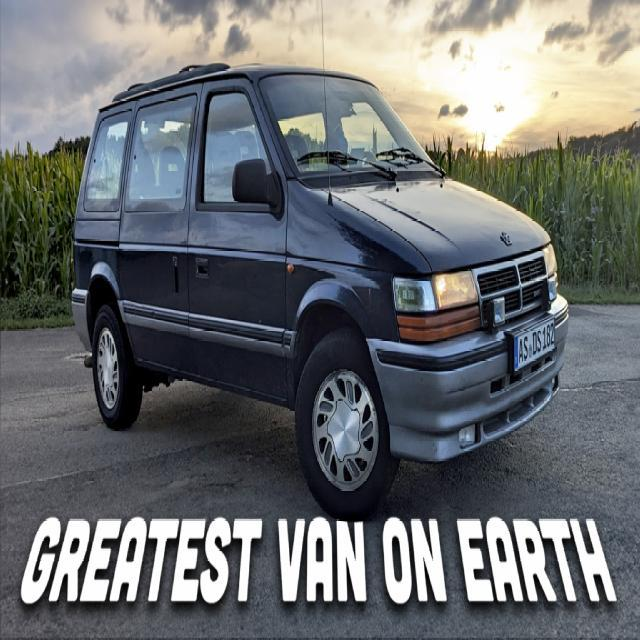minivan: (70, 59, 570, 520)
